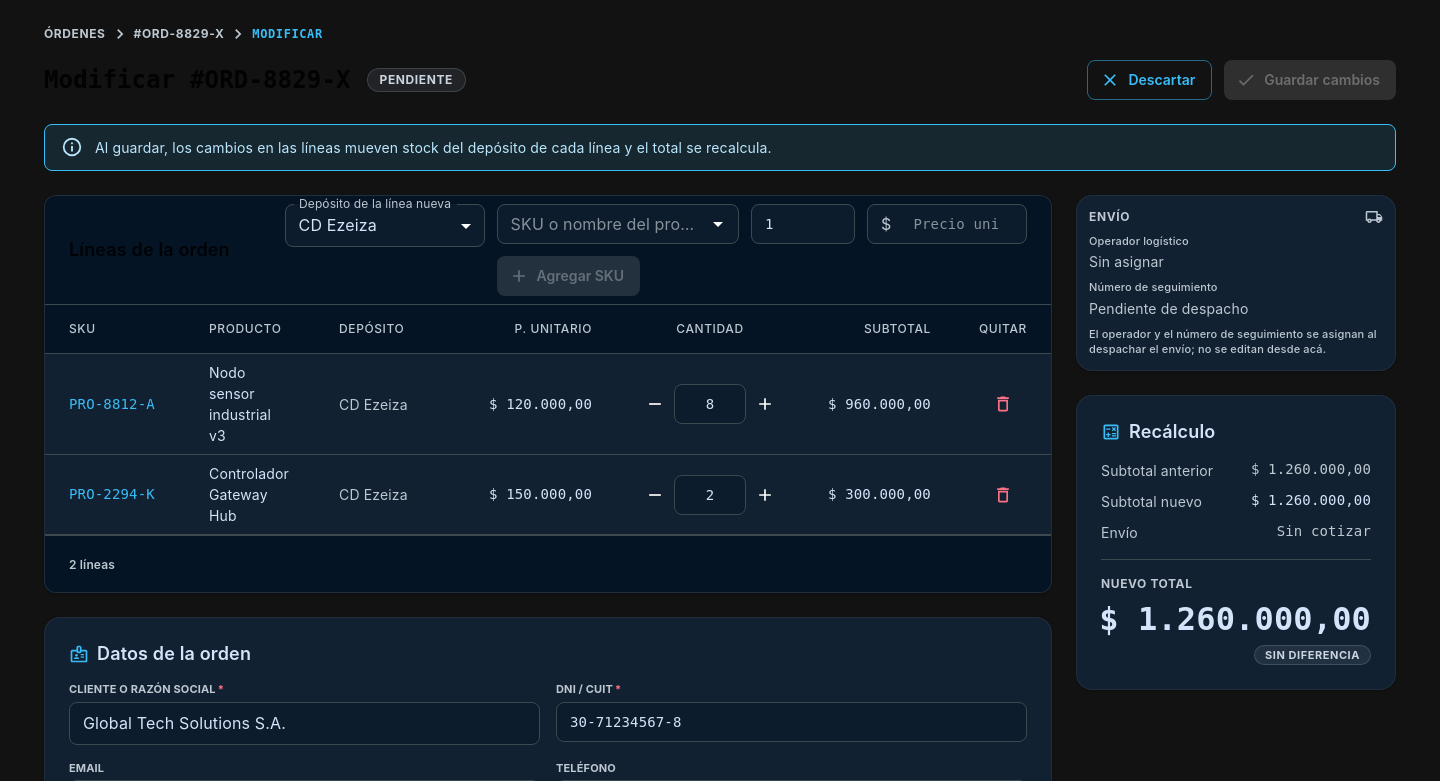
Scenario: OrderEditPage › warns and blocks saving when a line asks for more than its warehouse has
Replace the text in the number field named "Cantidad de PRO-8812-A" with "11" at (710, 404), box [674, 384, 746, 424]
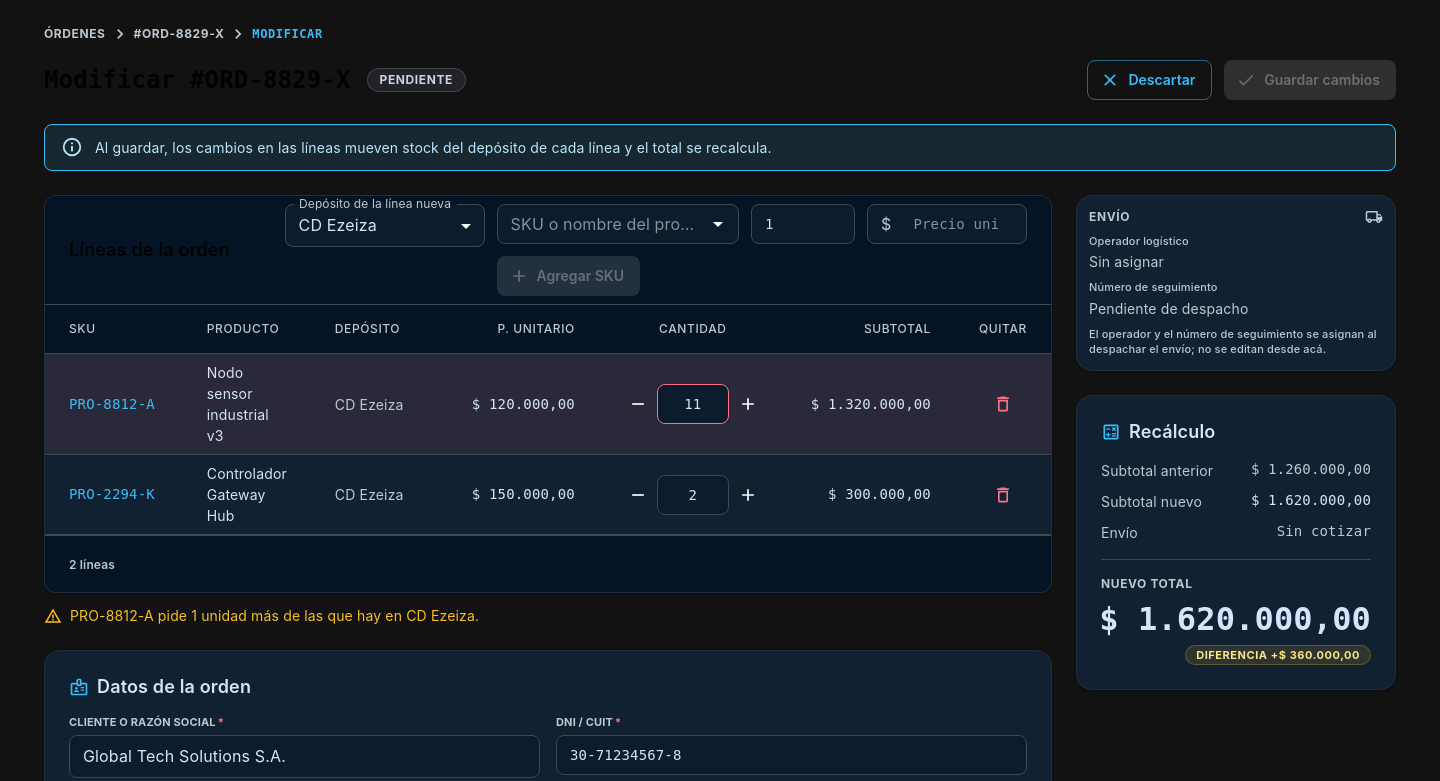
Check: the button "Guardar cambios" is disabled, box [1224, 60, 1396, 100]
Check: the text "PRO-8812-A pide 1 unidad más de las que hay en CD Ezeiza." is shown, box [70, 605, 479, 626]
